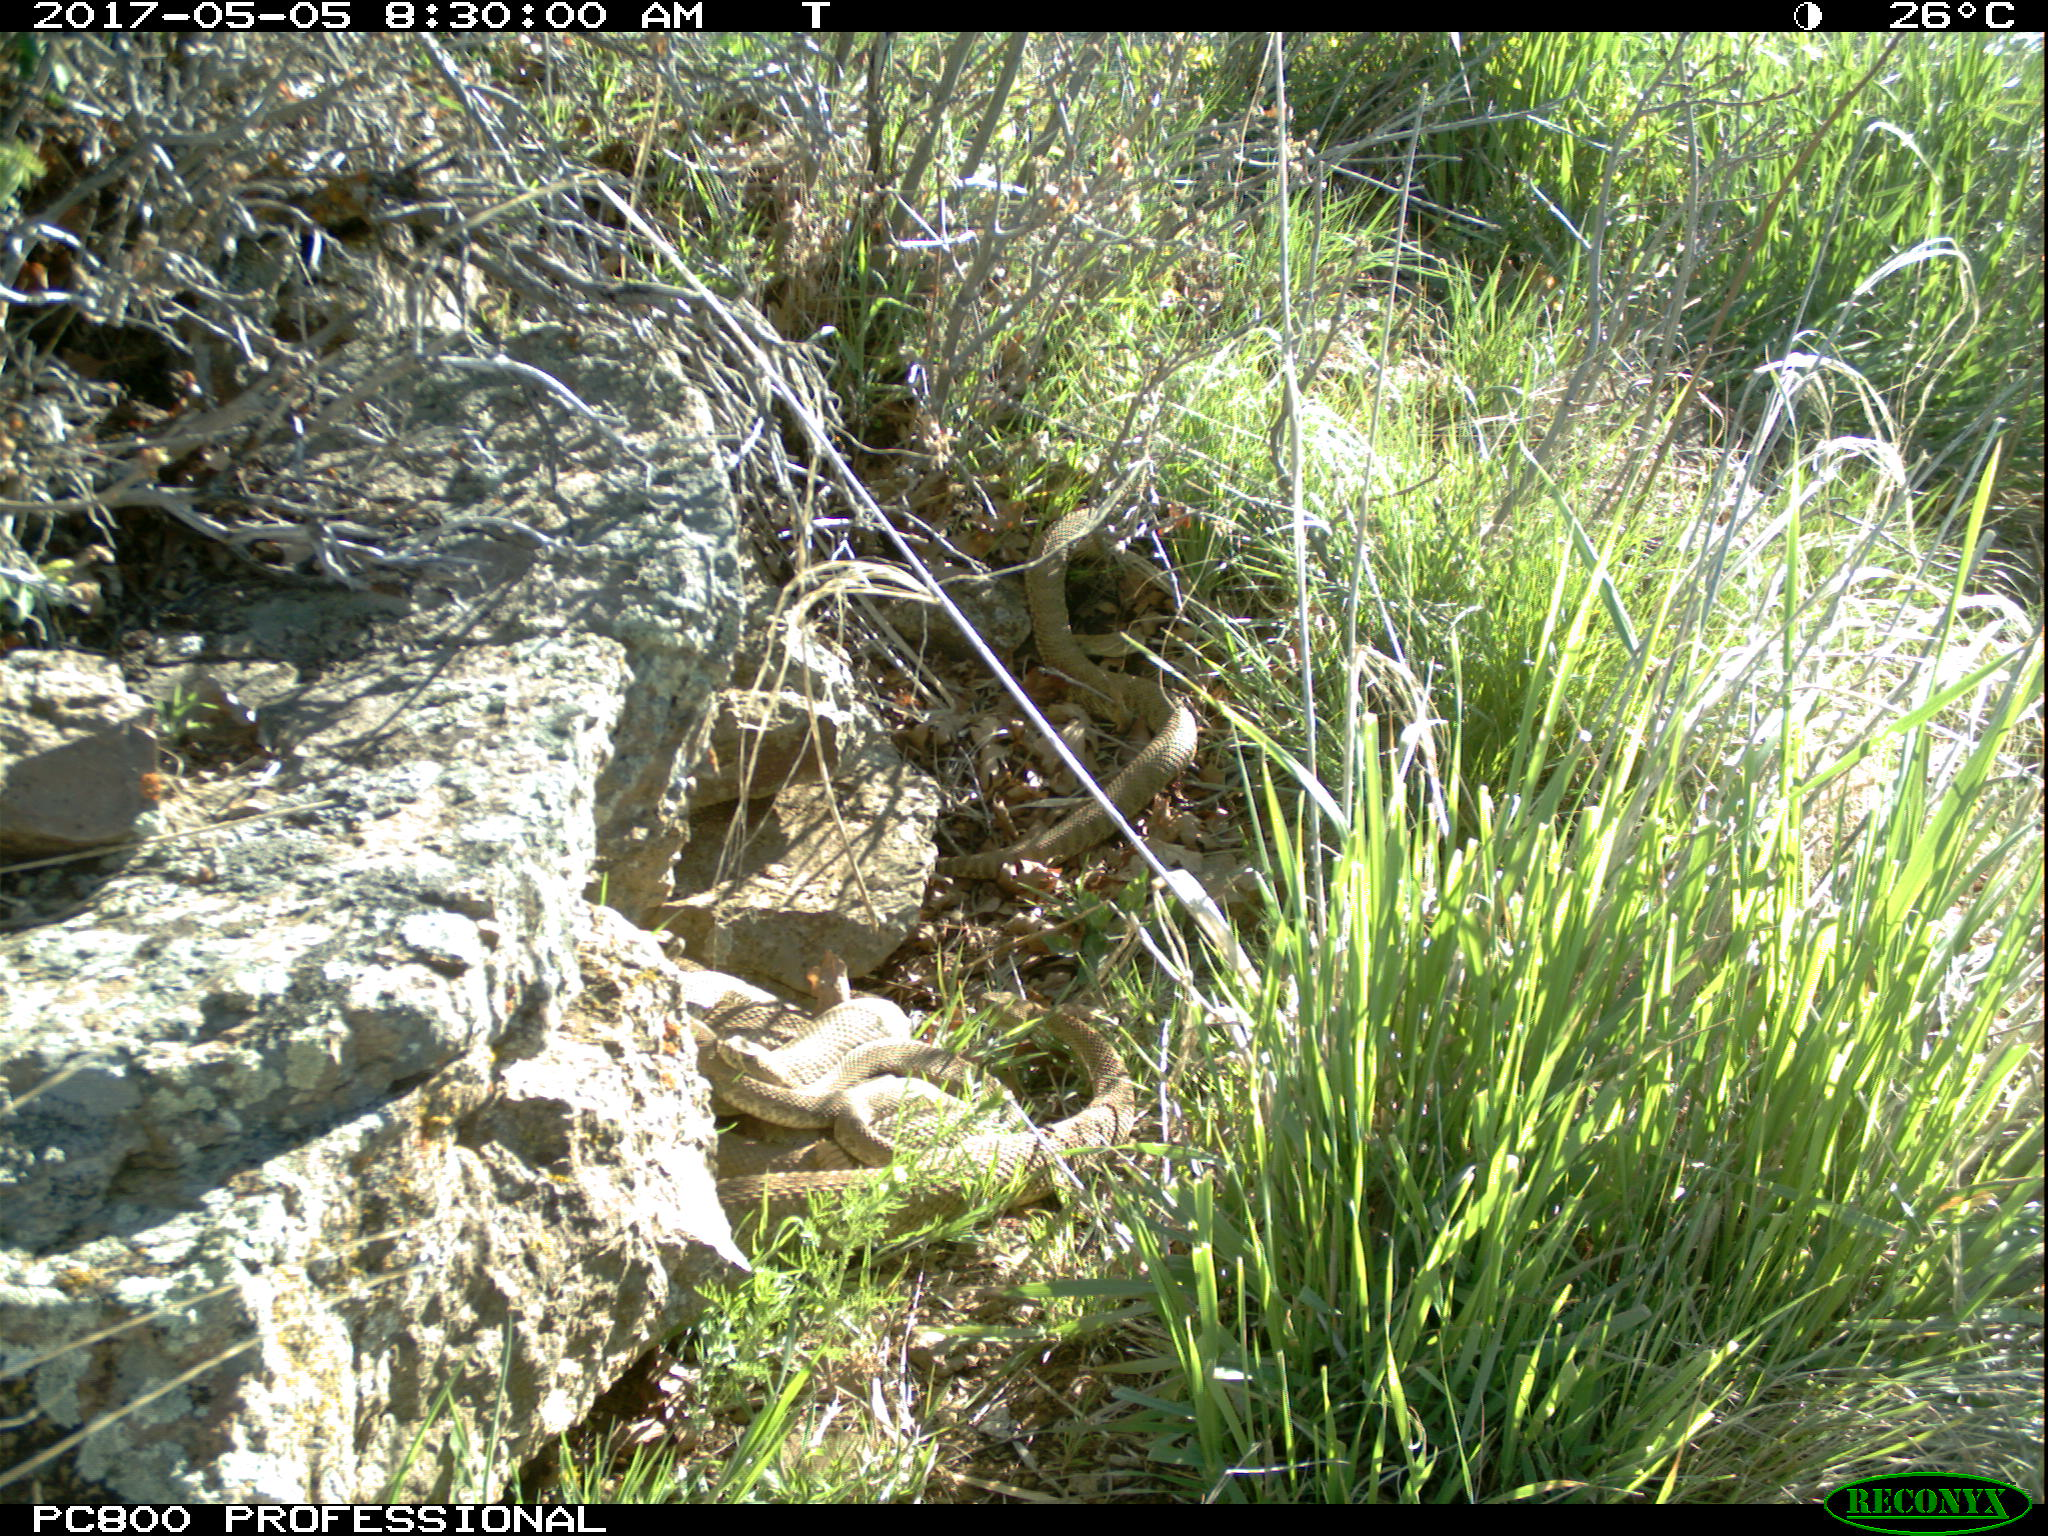snake: (692, 986, 1164, 1225), (937, 502, 1214, 883)
